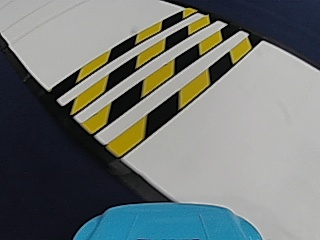bump: (67, 25, 194, 120)
